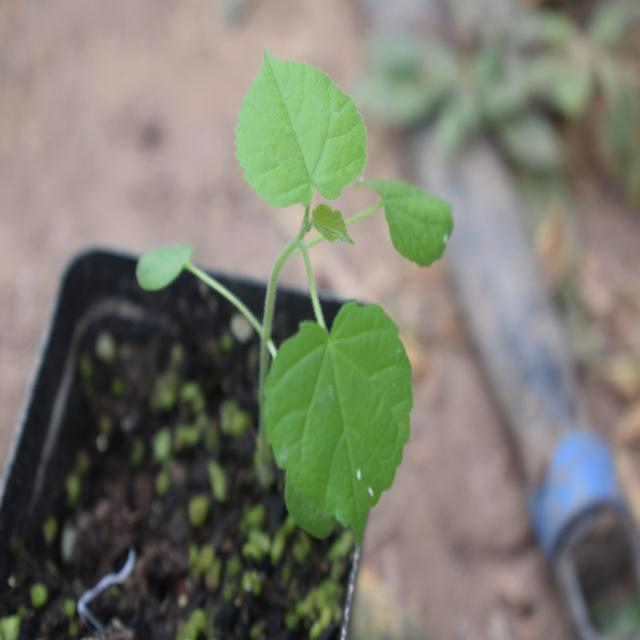abutilon theophrasti: (202, 53, 466, 539)
